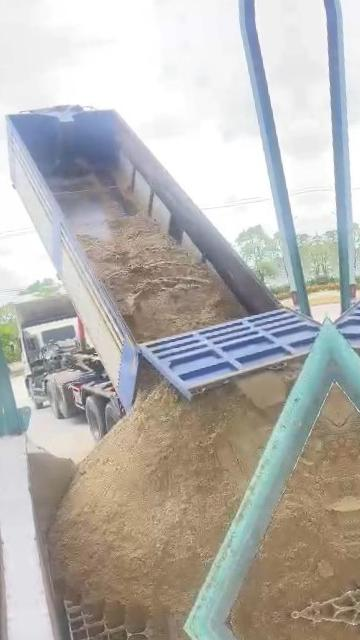sand: (49, 362, 280, 629), (234, 392, 359, 620), (79, 214, 245, 341), (29, 443, 77, 534), (236, 361, 300, 409)
